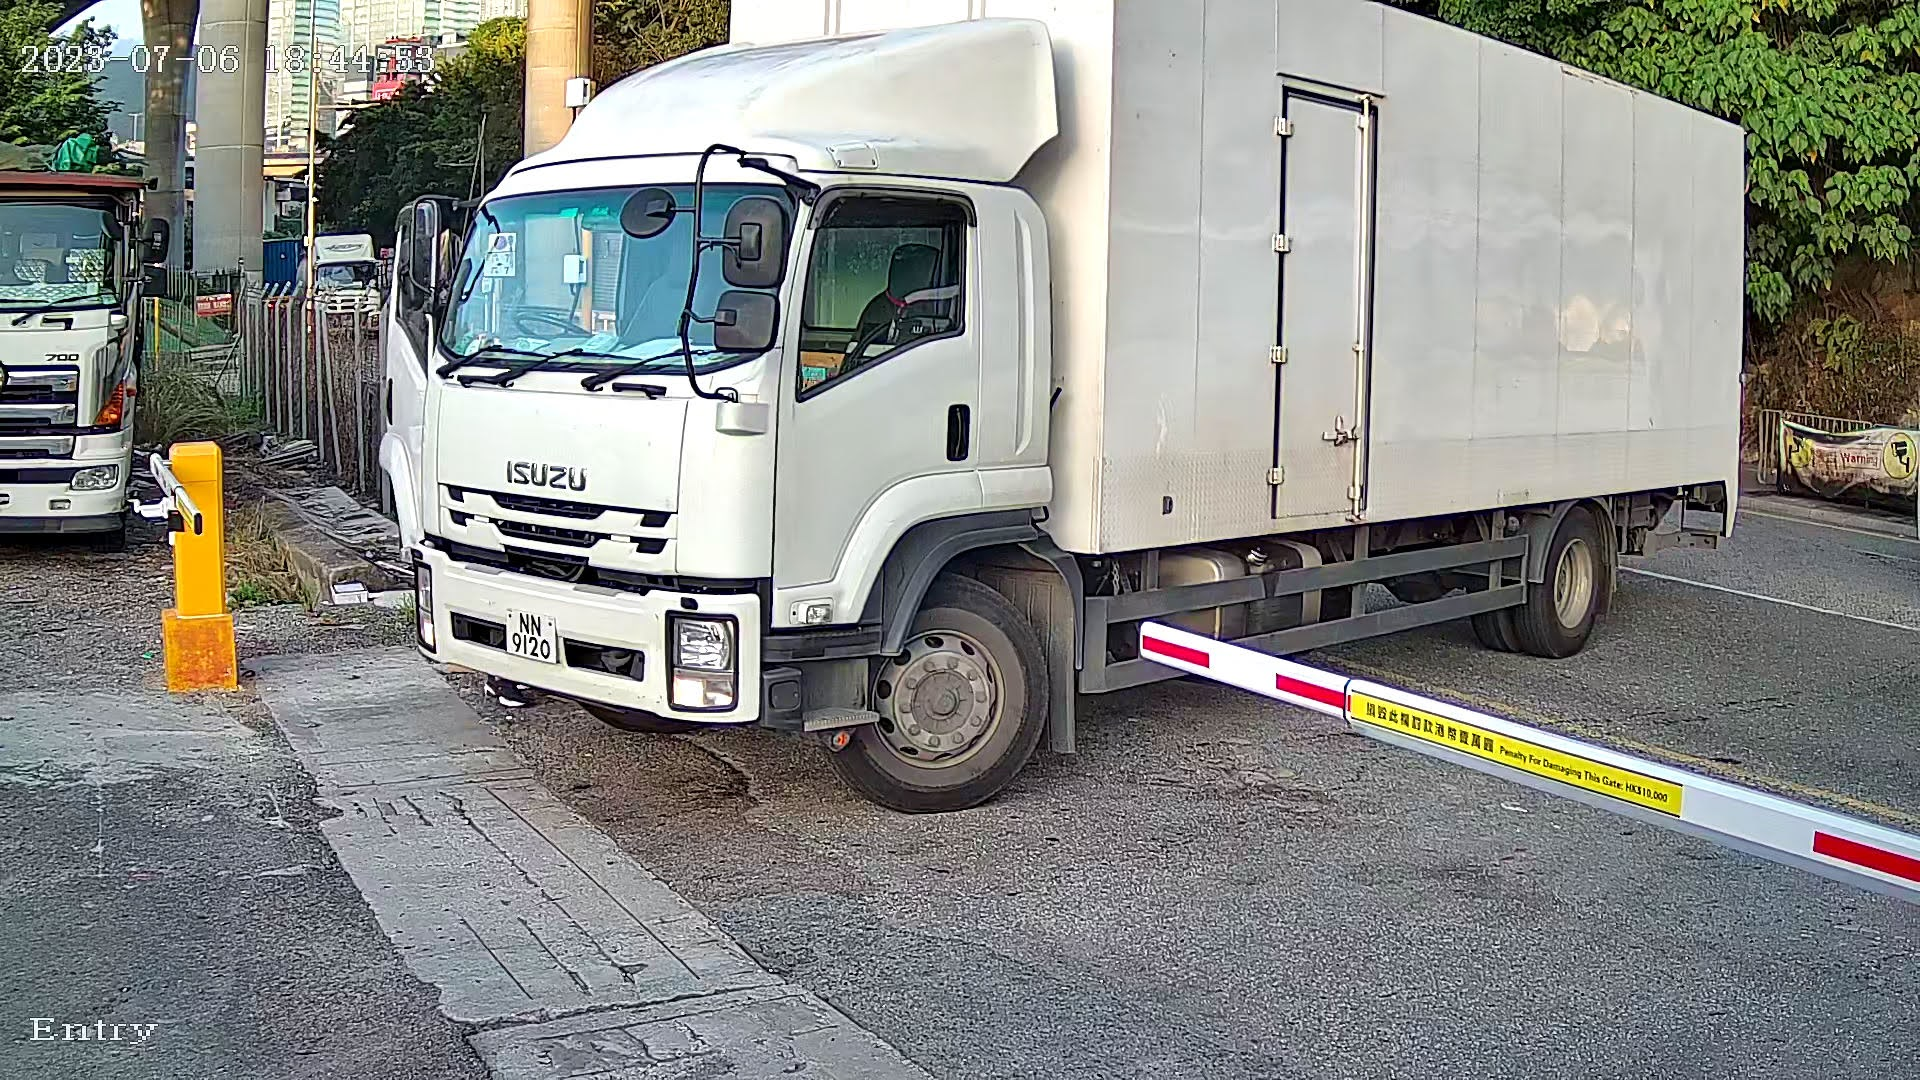truck: (382, 1, 1807, 851)
